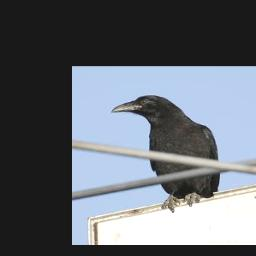Crow: (110, 93, 222, 212)
